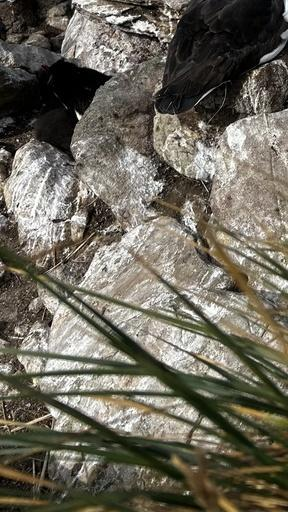Southern Rockhopper Penguin: (284, 0, 288, 198)
